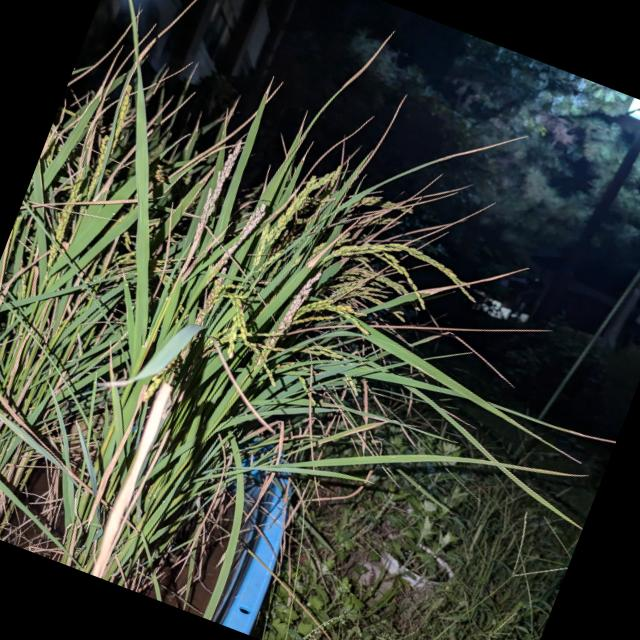9month_ine: (31, 36, 577, 640), (0, 0, 299, 578)
